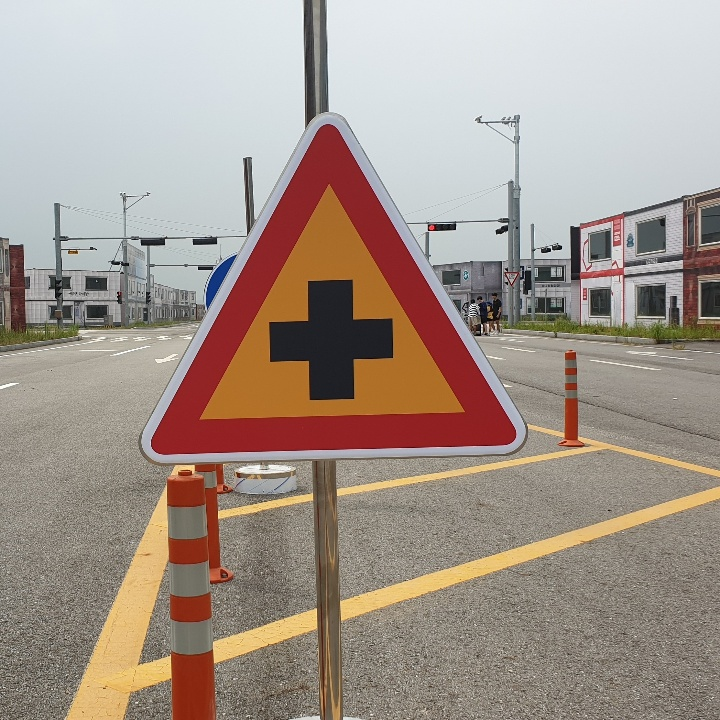inter: (262, 266, 401, 411)
